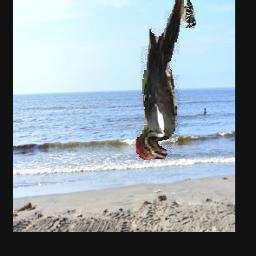Woodpecker: (135, 0, 183, 162), (176, 0, 196, 29)
